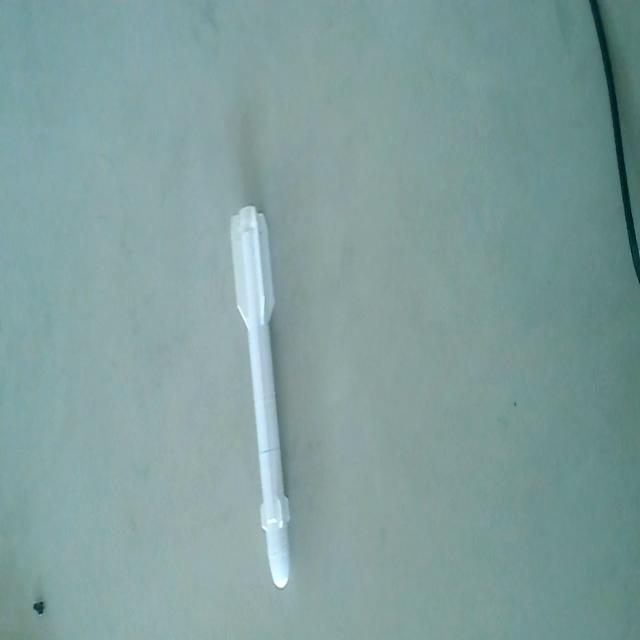Rocket: (227, 201, 295, 597)
